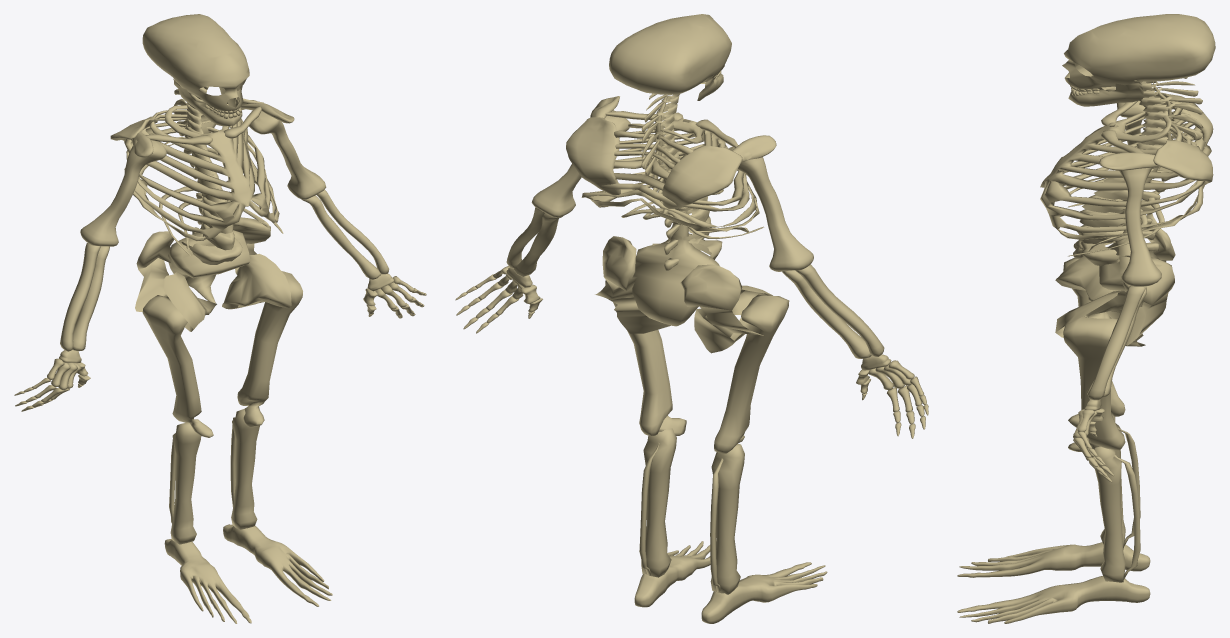
Rendered from player.glb.
3 views of the same model, side by side, from view 1: azimuth 30°, elevation 25°; view 2: azimuth 150°, elevation 25°; view 3: azimuth 270°, elevation 25° (orthographic). The views are drawn at different scales.
Parts seen in each view (by area): view 1: body; view 2: body; view 3: body.
Boxes of the visible parts, bbox=[...] form: body: bbox=[14, 14, 426, 623]; body: bbox=[455, 14, 928, 623]; body: bbox=[957, 14, 1215, 623].
Bounding box in the file's own units: 1.87 × 2.27 × 0.9274.
